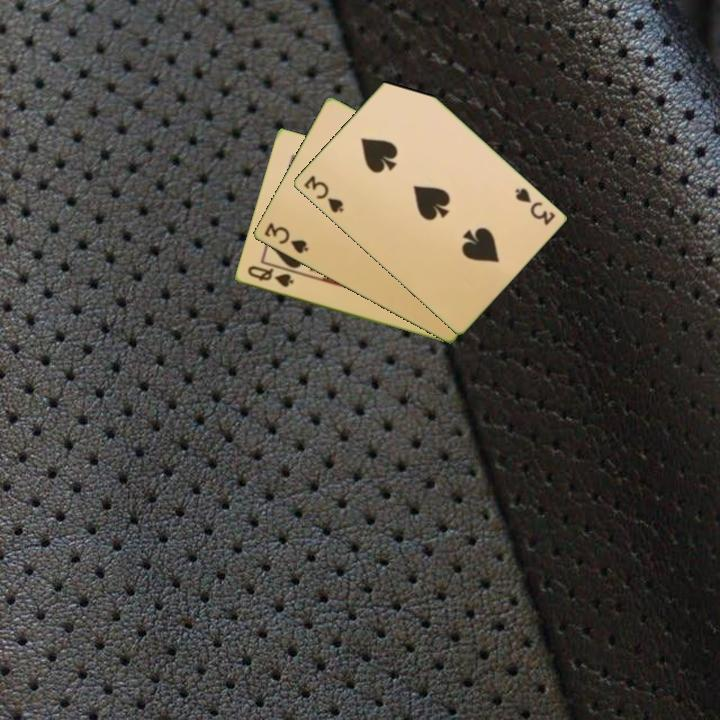3s: (511, 184, 558, 229), (300, 172, 346, 216), (260, 219, 311, 257)
Qs: (244, 262, 296, 290)
